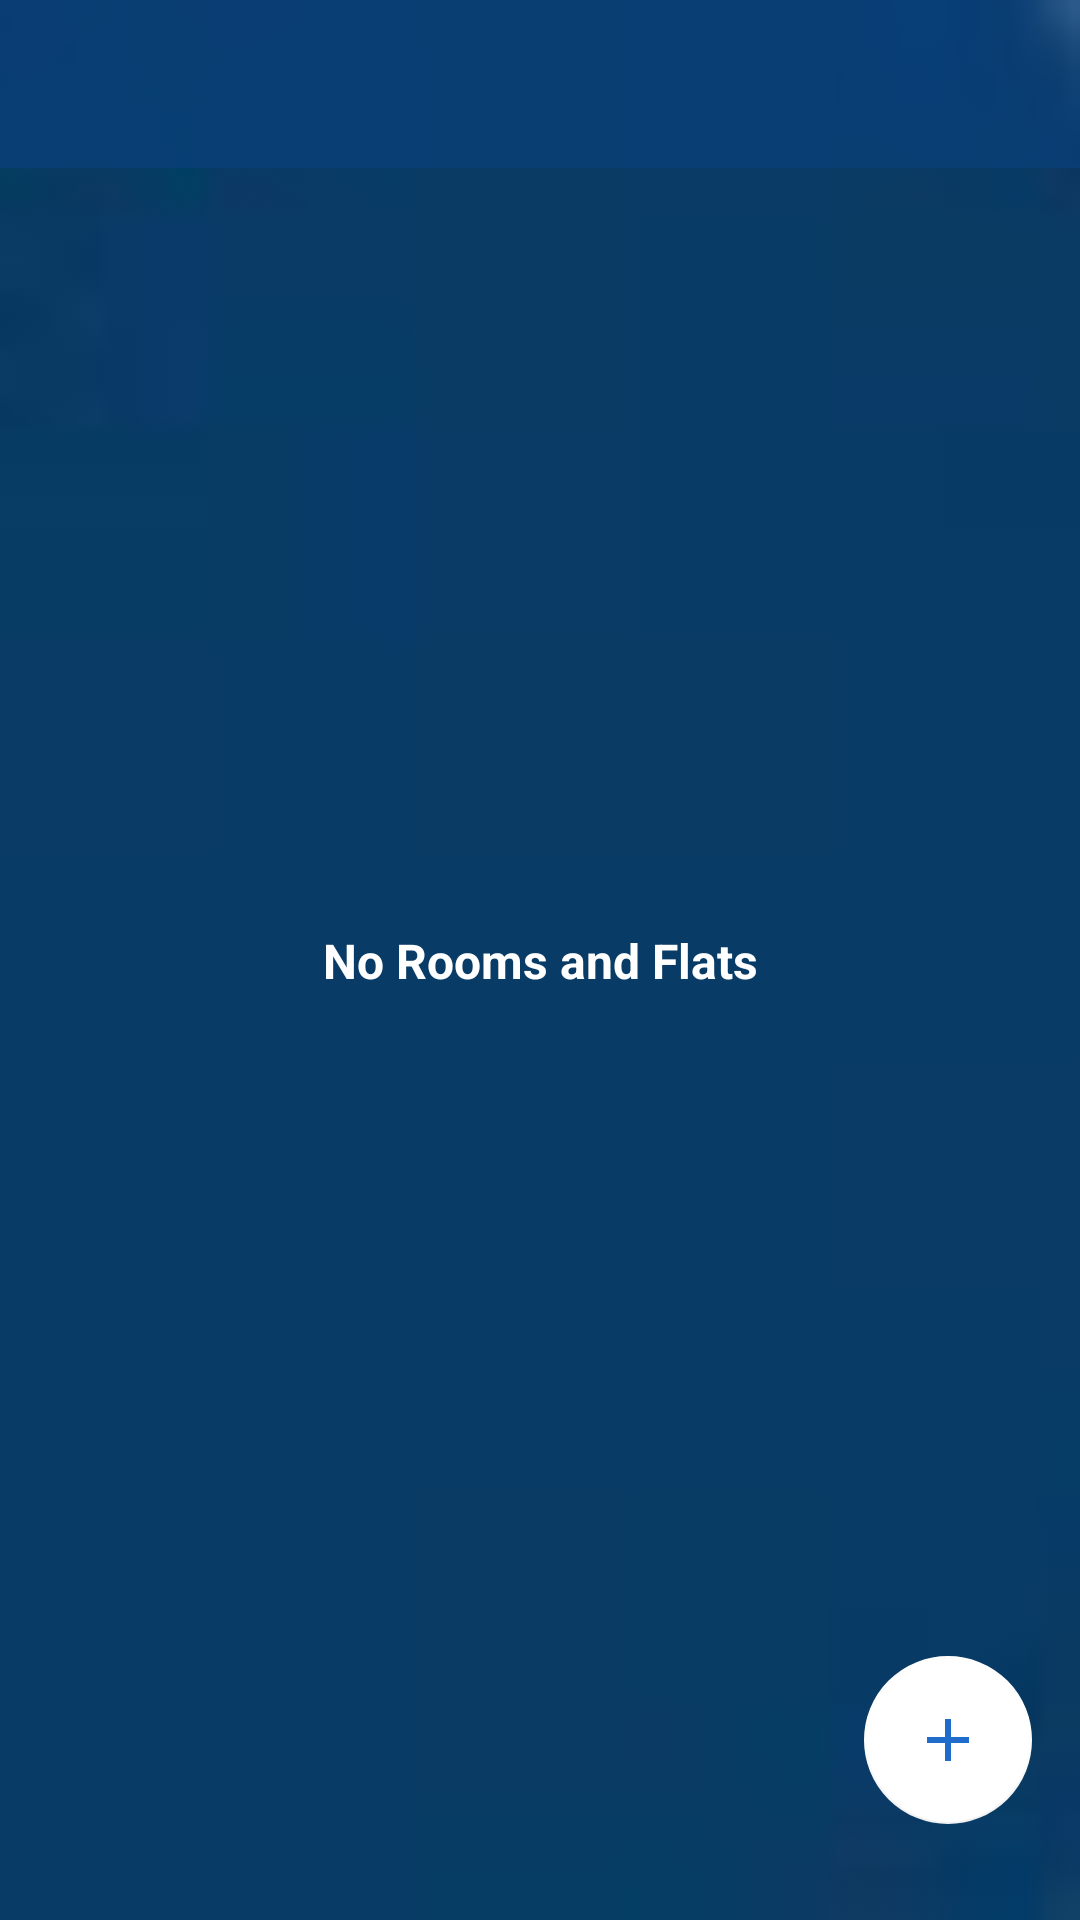

Named icons in this screenshot (1080*1920) and their centers, (x,y):
add: (948,1740)
